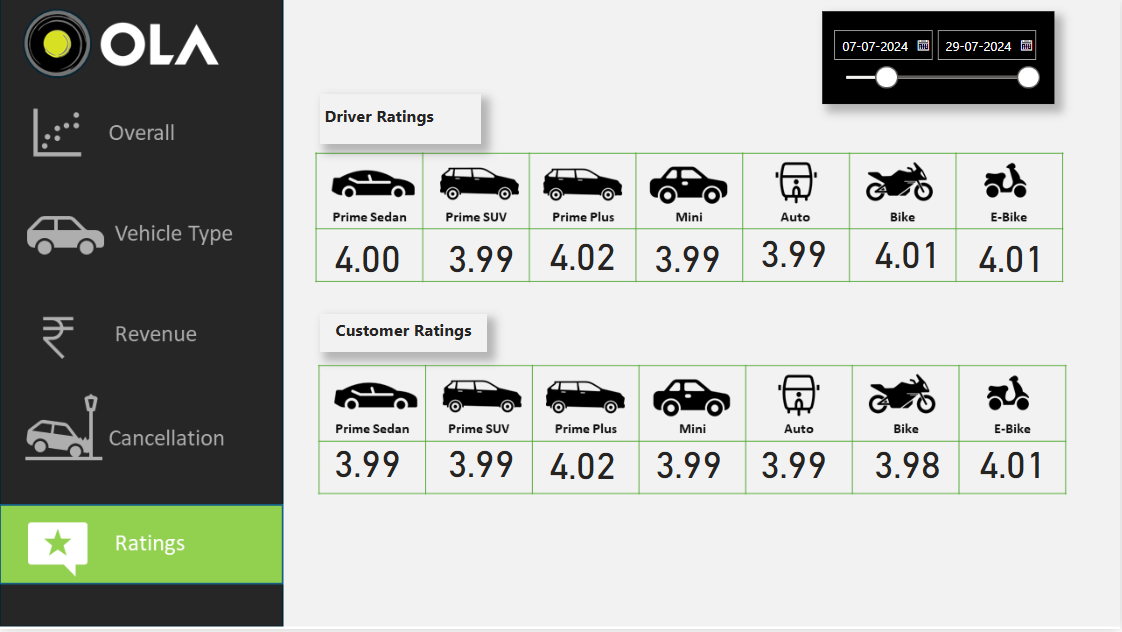

Layout of this report page (visuals, bound fields, positions):
{"tool":"powerbi","page":{"name":"Ratings","canvas":[1280,720],"ordinal":4},"visuals":[{"type":"actionButton","box":[0,223.2,323.3,86.9],"z":0},{"type":"actionButton","box":[0,345,323.3,86.9],"z":1000},{"type":"actionButton","box":[0,454.8,323.3,86.9],"z":2000},{"type":"actionButton","box":[0,580.3,323.3,86.9],"z":3000},{"type":"actionButton","box":[0,108.6,323.3,83.2],"z":4000}]}

Visuals, with their boxes in screenshot pixels (x1, y1, x2, y2), scaled from the page's 1280x720 canvas onto the 1122x632 screenshot:
actionButton: box=[0, 196, 283, 272]
actionButton: box=[0, 303, 283, 379]
actionButton: box=[0, 399, 283, 475]
actionButton: box=[0, 509, 283, 586]
actionButton: box=[0, 95, 283, 168]
